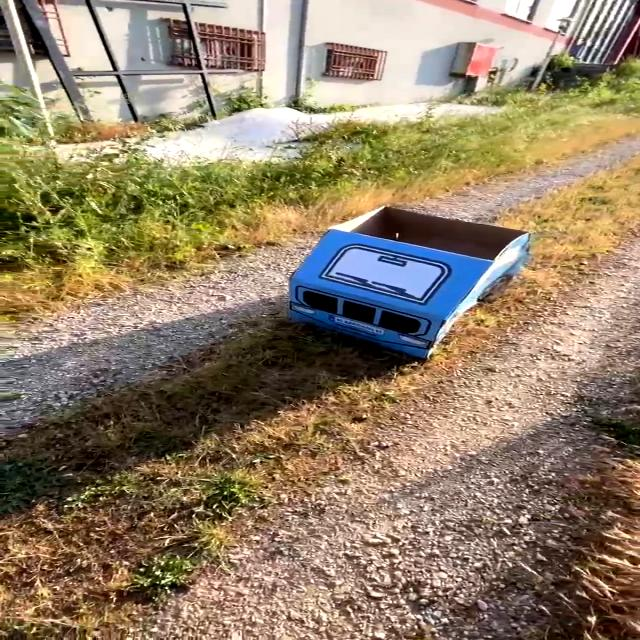blue_car: (244, 187, 576, 380)
